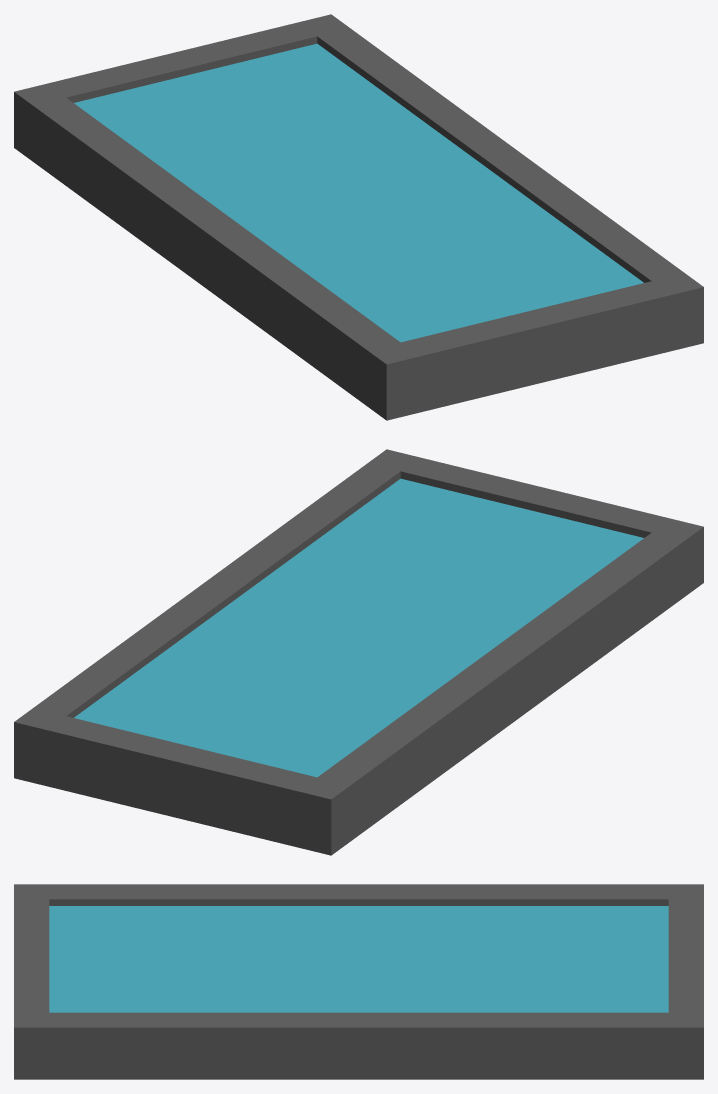
Rendered from Phone.glb.
The picture shows the model from 3 angles, top to bottom: view 1: azimuth 30°, elevation 25°; view 2: azimuth 150°, elevation 25°; view 3: azimuth 270°, elevation 25°; orthographic projection. The views are drawn at different scales.
Visible parts, largest first — view 1: Phone; view 2: Phone; view 3: Phone.
Part boxes in pixels (left/top/right/bottom): Phone: left=14, top=14, right=703, bottom=420; Phone: left=14, top=449, right=703, bottom=855; Phone: left=14, top=884, right=703, bottom=1079.
Size of the model in its own units: 0.2495 by 0.0422 by 0.5074.
1 material, 1 textured.
